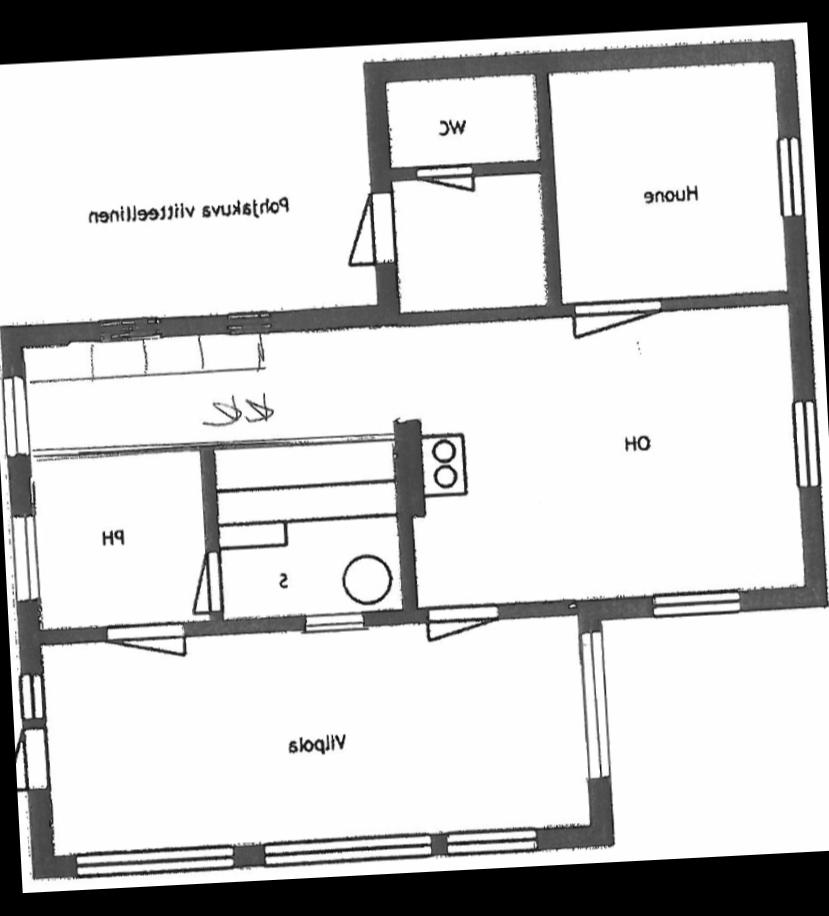door: (338, 192, 402, 270), (570, 298, 660, 346), (104, 620, 188, 666), (179, 549, 228, 618), (425, 604, 502, 646), (13, 724, 55, 794), (416, 160, 476, 200)
window: (58, 840, 245, 886), (250, 829, 438, 872), (571, 621, 616, 789), (440, 823, 545, 866), (786, 391, 827, 496), (2, 506, 43, 610), (0, 365, 38, 468), (638, 586, 742, 623), (770, 128, 808, 227), (297, 608, 367, 639), (14, 666, 50, 724)
